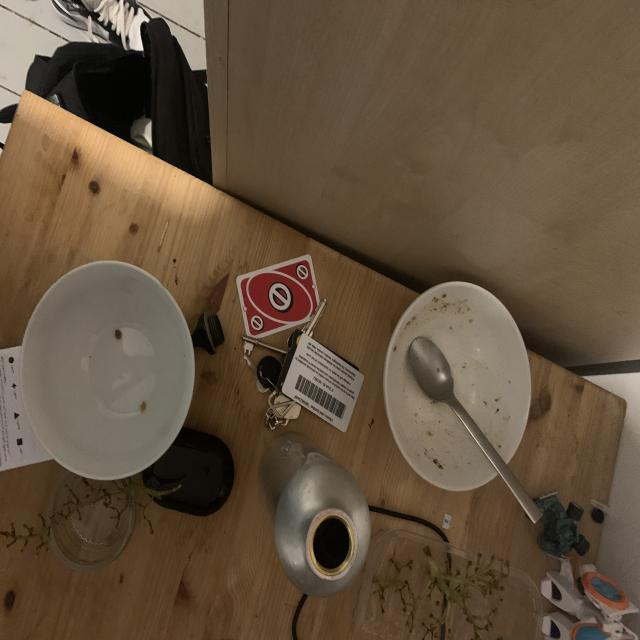lredskip-20: (295, 262, 310, 282)
